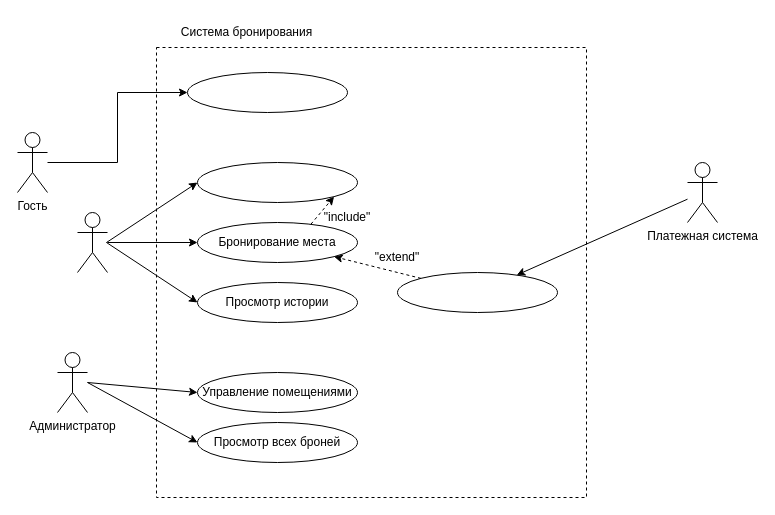
Some shapes in this 775 by 515 pixel diagram are drawn without their labels. Here are the shapes that lost their labels. From the top down, the centre of each, then its label:
At pixel 267 92: "Просмотр каталога мест".
At pixel 277 182: "Авторизация".
At pixel 92 242: "Клиент".
At pixel 477 292: "Оплата бронирования".
